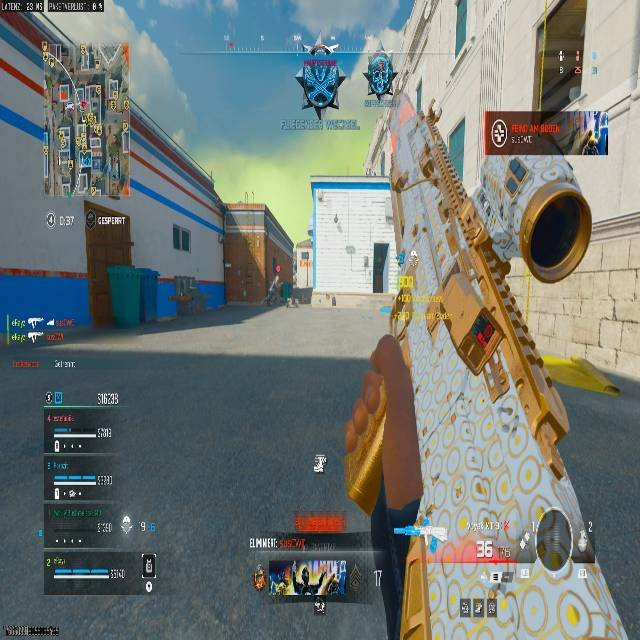head: (308, 43, 330, 56)
player: (294, 44, 345, 119), (364, 52, 395, 102)
